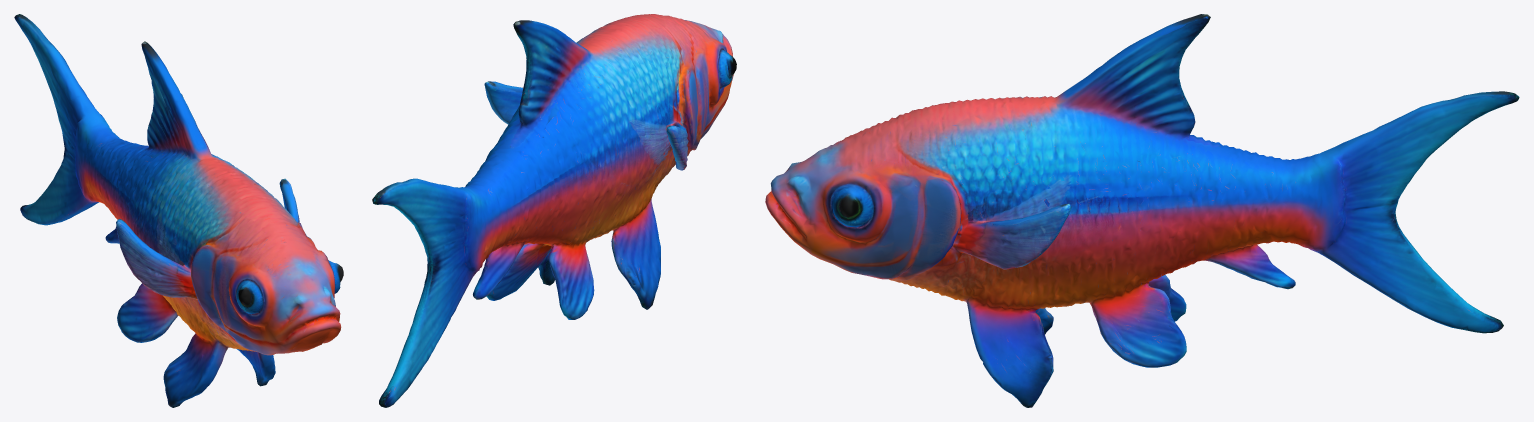
Rendered from tetra.glb.
The picture shows the model from 3 angles, left to right: view 1: azimuth 30°, elevation 25°; view 2: azimuth 150°, elevation 25°; view 3: azimuth 270°, elevation 25°; orthographic projection. The views are drawn at different scales.
Bounding box in the file's own units: 0.6187 × 1.03 × 1.92.
Materials: 1 (1 with a texture image).
